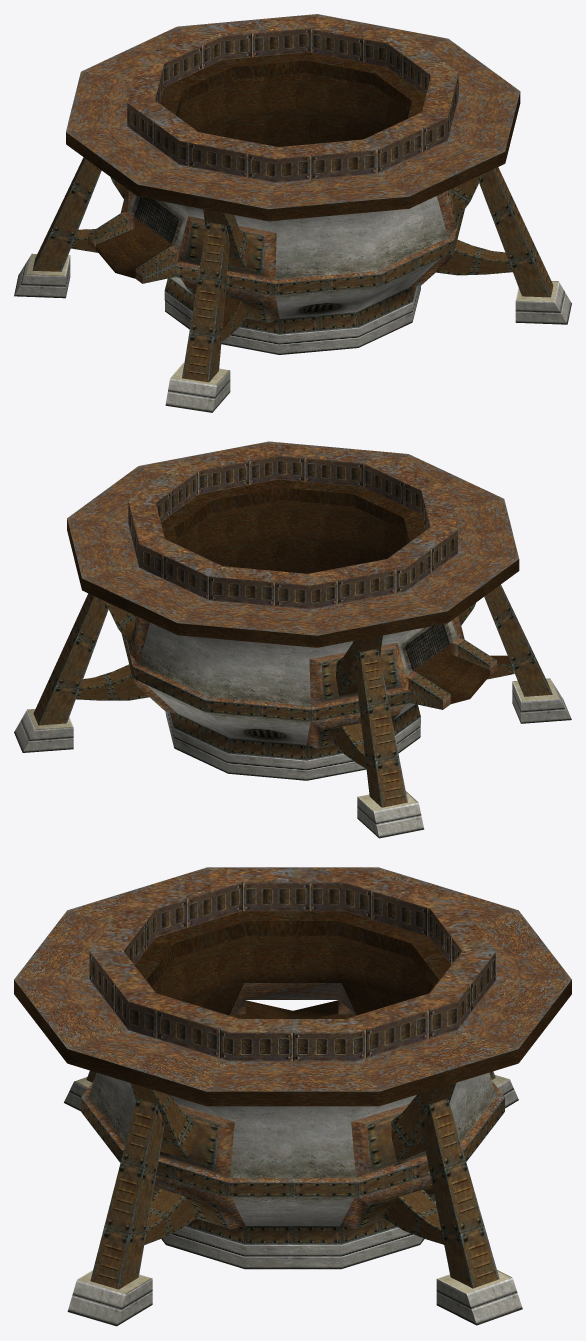
The model's file is DWARF_PALACE_FORGE_WATERFILTER.fbx.
The picture shows the model from 3 angles, top to bottom: view 1: azimuth 30°, elevation 25°; view 2: azimuth 150°, elevation 25°; view 3: azimuth 270°, elevation 25°; orthographic projection. The views are drawn at different scales.
Parts seen in each view (by area): view 1: DWARF_PALACE_FORGE_WATERFILTER; view 2: DWARF_PALACE_FORGE_WATERFILTER; view 3: DWARF_PALACE_FORGE_WATERFILTER.
Boxes of the visible parts, x1=… form: DWARF_PALACE_FORGE_WATERFILTER: x1=14, y1=14, x2=571, y2=412; DWARF_PALACE_FORGE_WATERFILTER: x1=14, y1=441, x2=571, y2=838; DWARF_PALACE_FORGE_WATERFILTER: x1=14, y1=867, x2=571, y2=1326.
Size of the model in its own units: 84060 by 41503 by 82287.
15 materials, 15 textured.
